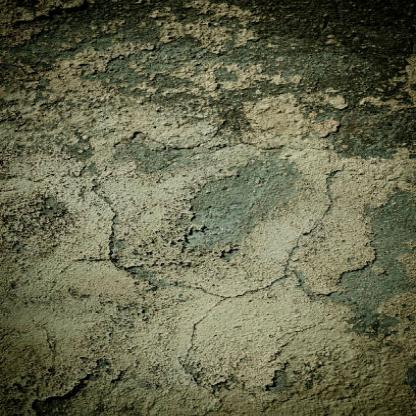Sedimentary_Sandstone: (1, 3, 412, 415)
